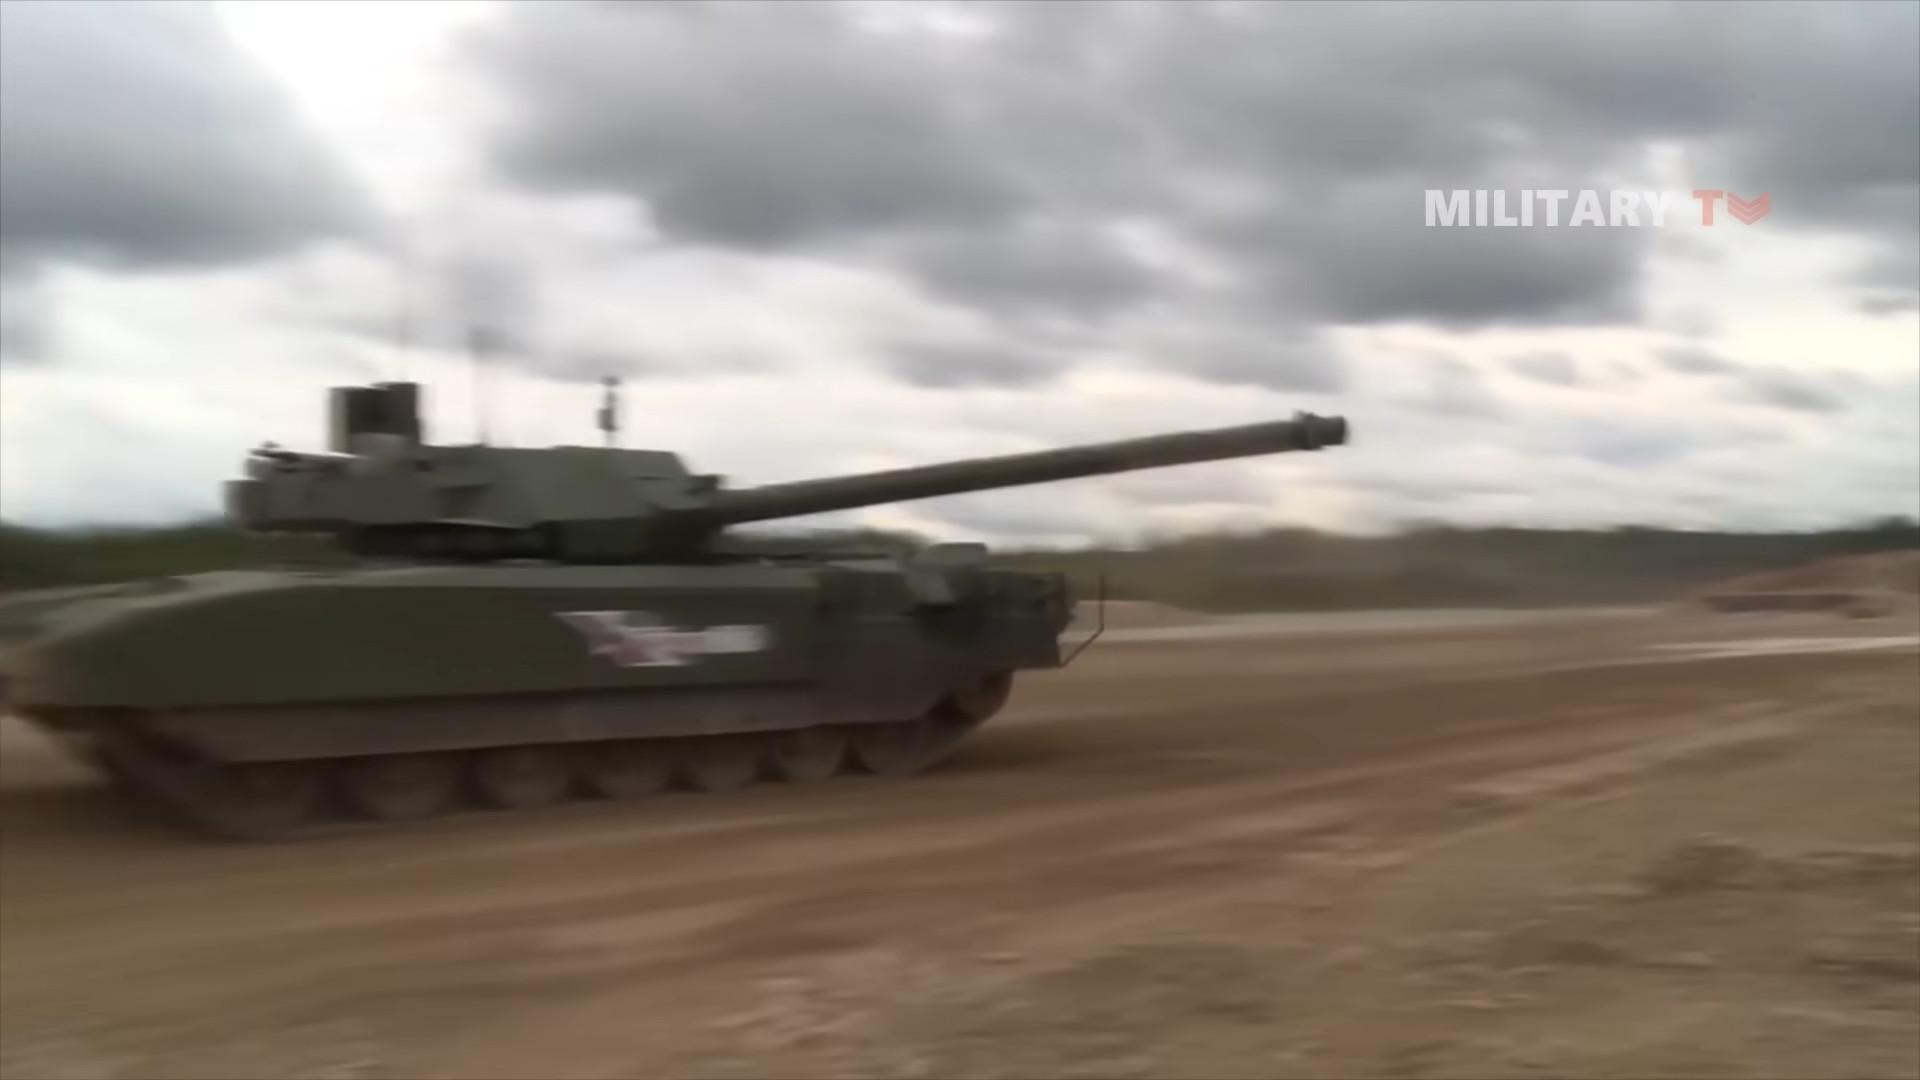tank: (1, 382, 1346, 839)
